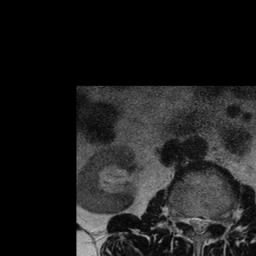CCS_normal: (196, 208, 203, 241)
LFS_stenosis: (210, 210, 218, 232)
LLS_stenosis: (203, 208, 210, 236)
RFS_normal: (179, 205, 188, 229)
RLS_normal: (188, 208, 196, 235)
